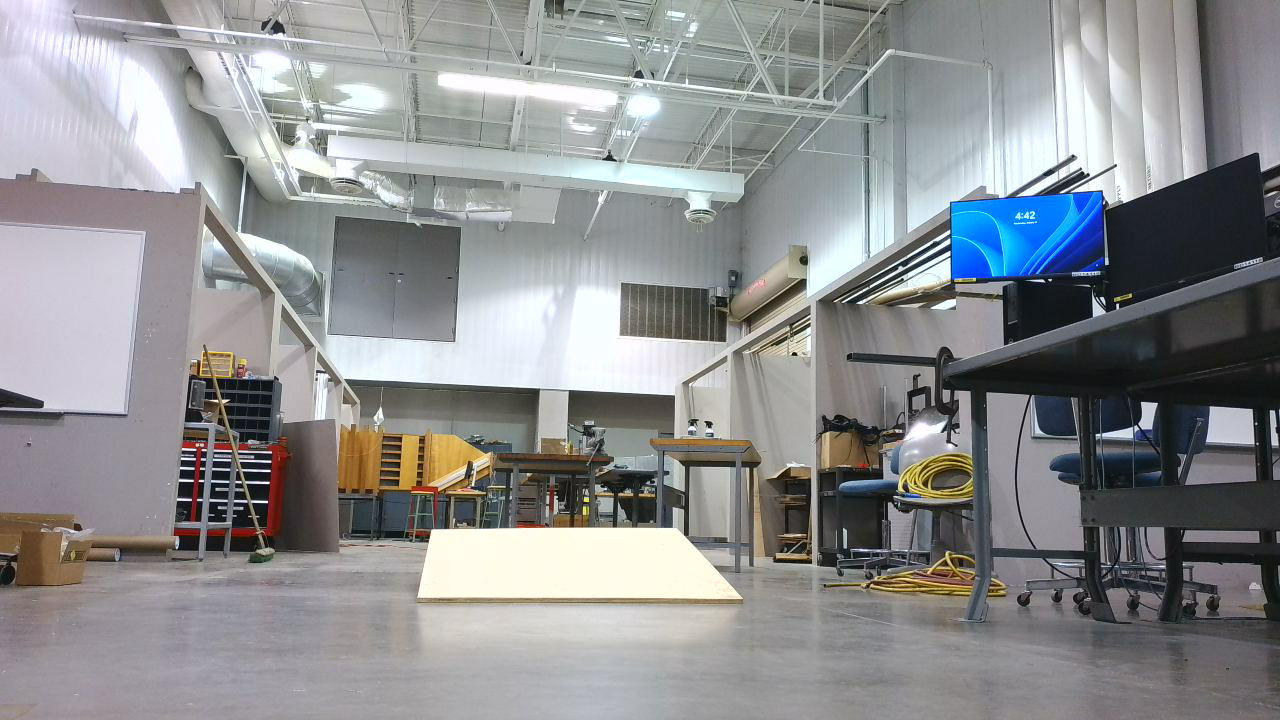ramp: (419, 527, 756, 614)
